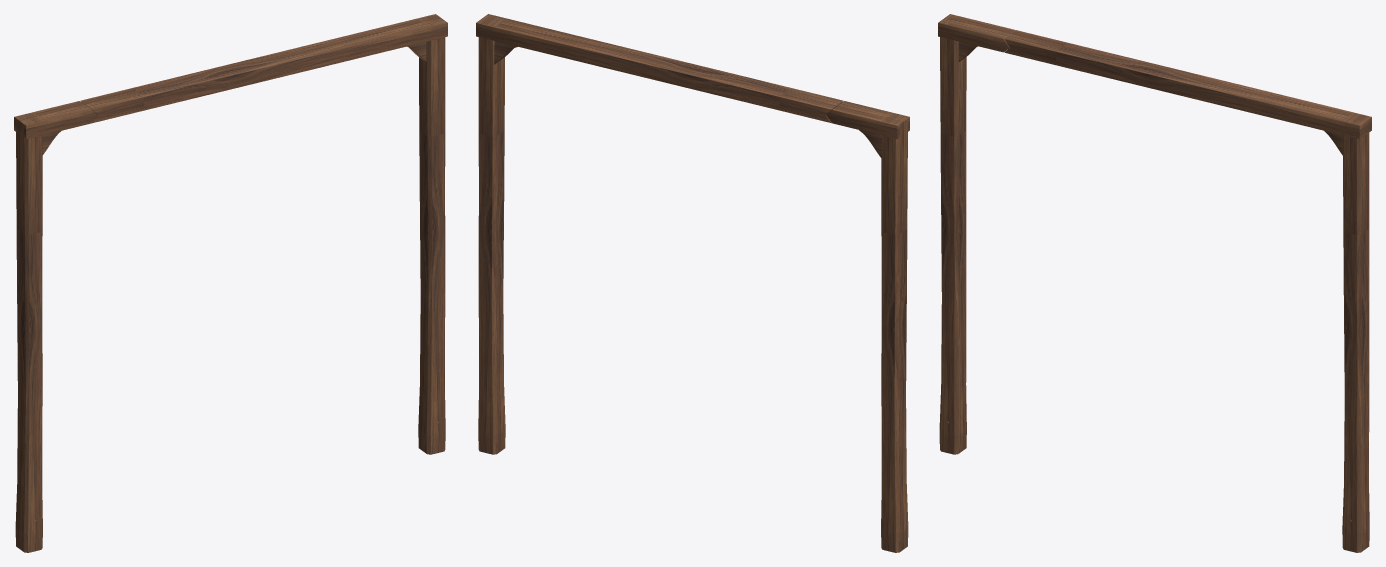
The model's file is CM_EW11_FittedTimber.fbx.
3 renders of one model, left to right at view 1: azimuth 30°, elevation 25°; view 2: azimuth 150°, elevation 25°; view 3: azimuth 330°, elevation 25°, orthographic.
Parts seen in each view (by area): view 1: CM_EW11_FittedTimber; view 2: CM_EW11_FittedTimber; view 3: CM_EW11_FittedTimber.
Part boxes in pixels (box(x1,y1,x2,y2)): CM_EW11_FittedTimber: box(14, 14, 447, 552); CM_EW11_FittedTimber: box(476, 14, 909, 552); CM_EW11_FittedTimber: box(938, 14, 1371, 552).
Size of the model in its own units: 3.2 by 3.1 by 0.16.
